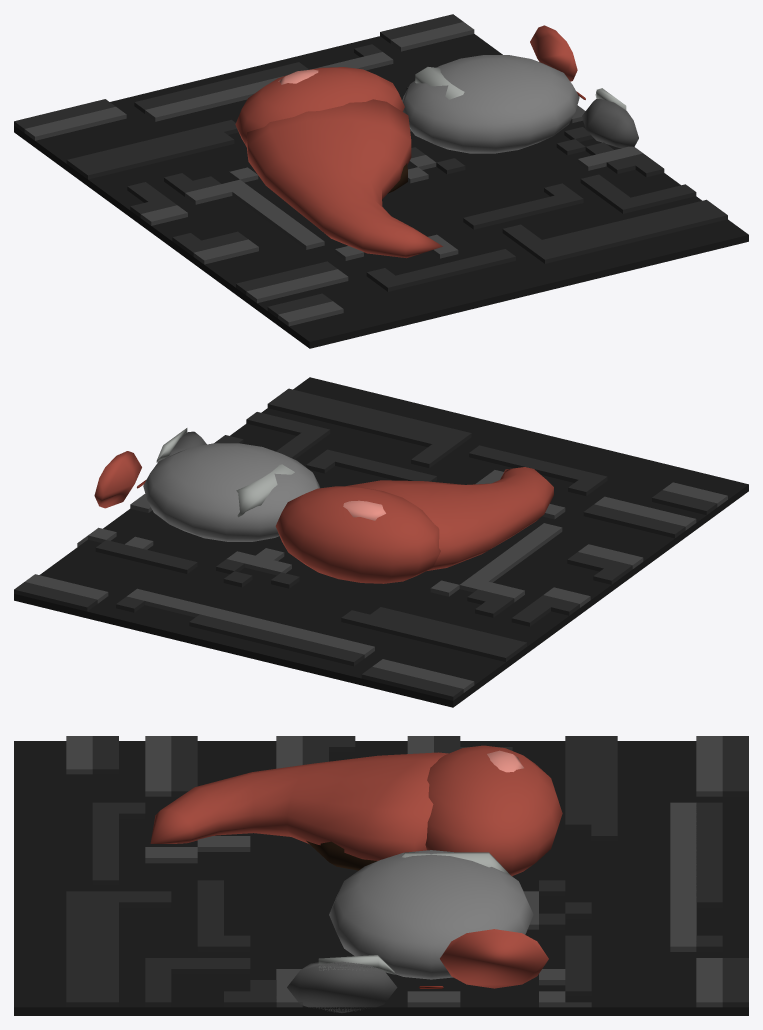
File: newsh-caret-157.glb
The picture shows the model from 3 angles, top to bottom: view 1: azimuth 30°, elevation 25°; view 2: azimuth 150°, elevation 25°; view 3: azimuth 270°, elevation 25°; orthographic projection. The views are drawn at different scales.
Parts seen in each view (by area): view 1: newsh-caret-157; view 2: newsh-caret-157; view 3: newsh-caret-157.
Boxes of the visible parts, bbox=[...] form: newsh-caret-157: bbox=[14, 14, 748, 348]; newsh-caret-157: bbox=[14, 377, 748, 707]; newsh-caret-157: bbox=[14, 736, 748, 1015].
Bounding box in the file's own units: 2 × 0.37 × 2.33.
